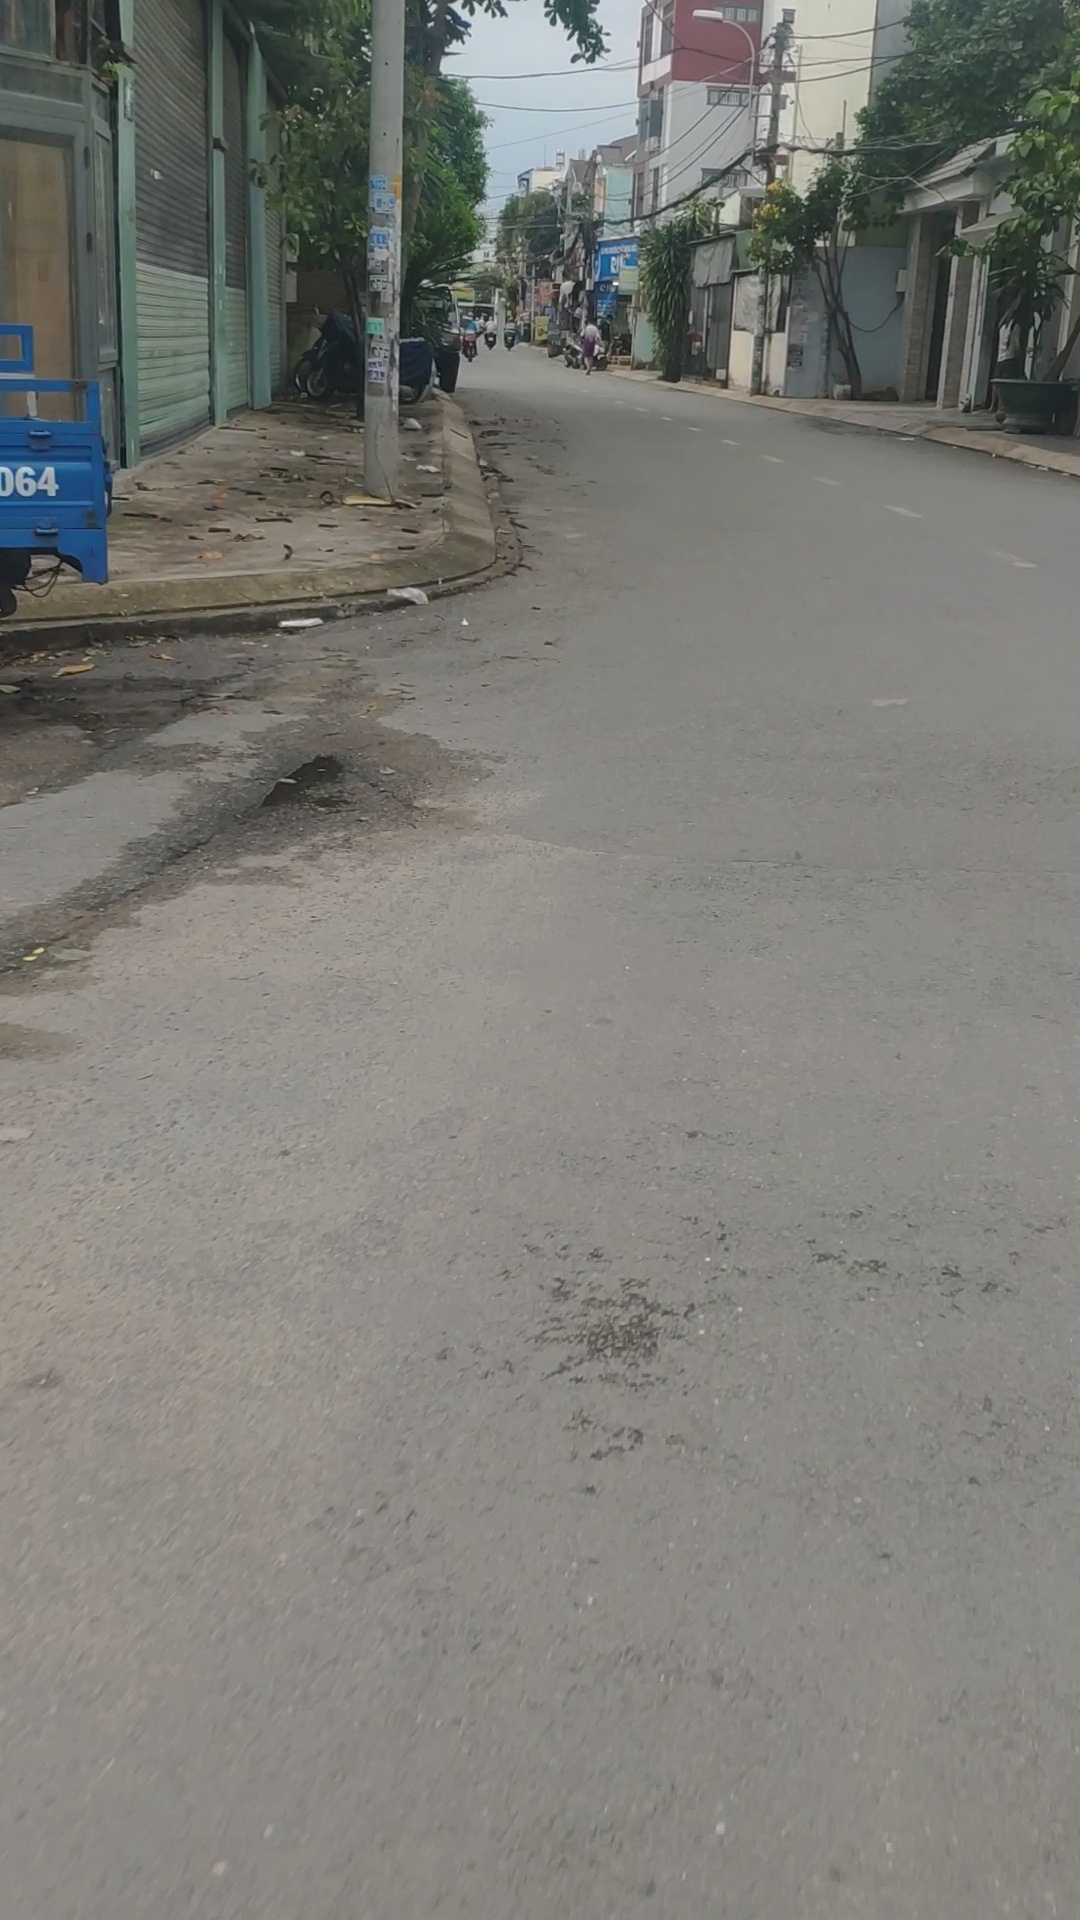hole: (255, 744, 407, 822)
